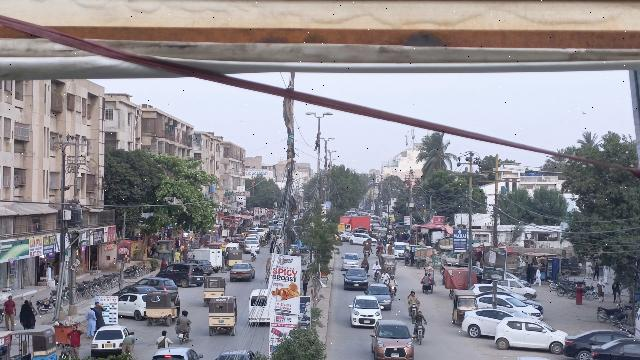Bike: (414, 322, 426, 347), (176, 329, 193, 346), (409, 302, 420, 317), (388, 286, 397, 298)
Car: (494, 316, 566, 352), (459, 307, 522, 338), (369, 318, 415, 360), (562, 329, 620, 360), (348, 294, 386, 327), (155, 263, 205, 288), (89, 324, 126, 357), (587, 338, 640, 360), (365, 283, 394, 311), (119, 292, 146, 321), (341, 267, 370, 291), (229, 261, 256, 282), (340, 251, 361, 270)
Cart: (420, 265, 436, 295)
Person: (18, 297, 35, 332), (1, 294, 17, 331), (66, 325, 83, 359), (84, 303, 98, 341), (120, 331, 136, 358), (154, 329, 171, 348), (93, 300, 105, 326), (178, 308, 190, 327), (413, 309, 426, 324), (407, 288, 418, 302), (387, 274, 397, 286)
Rickshaw: (205, 295, 241, 336), (144, 289, 182, 327), (451, 287, 479, 326), (202, 276, 228, 307), (379, 254, 397, 276)
Truck: (193, 247, 224, 270)
Van: (246, 288, 270, 327)
